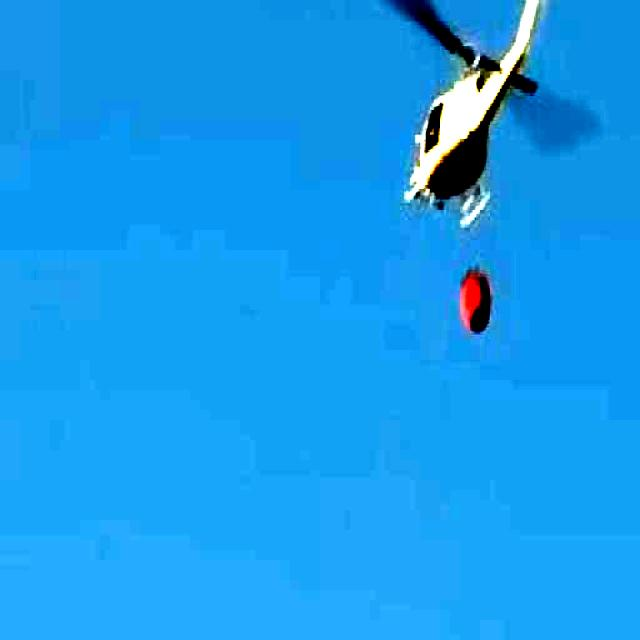drone: (376, 0, 566, 226)
